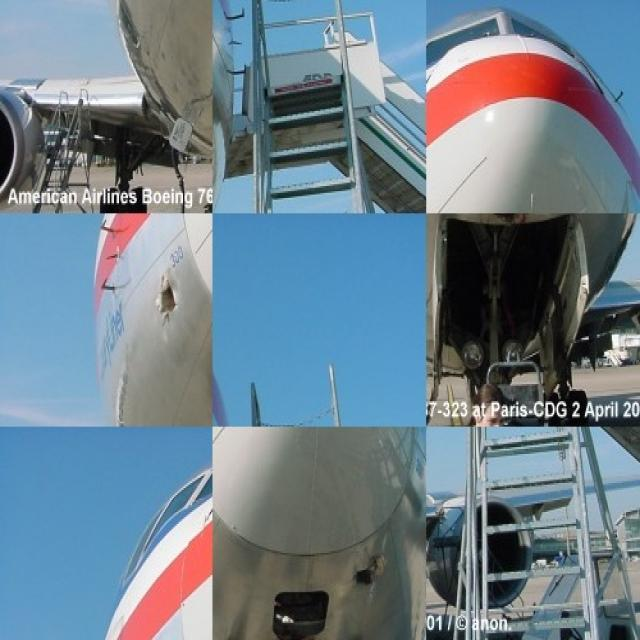dent: (359, 558, 403, 592), (151, 279, 187, 320)
